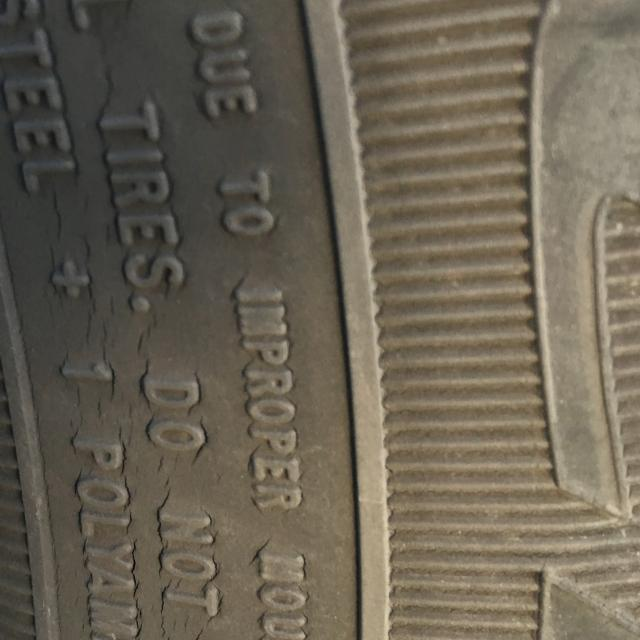Cracks: (28, 0, 214, 636)
Non-defective: (281, 0, 640, 640)
